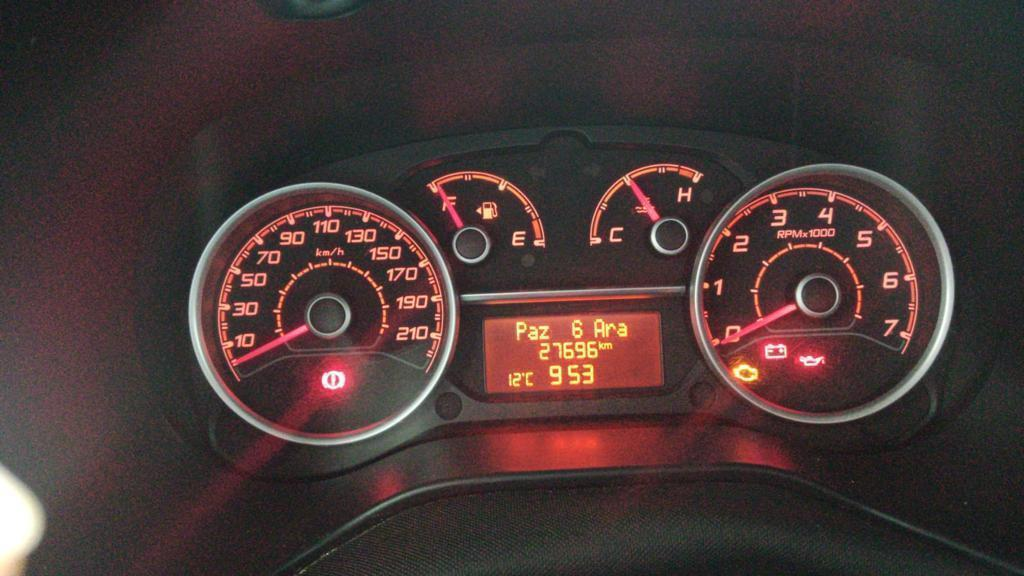1: (505, 371, 511, 387)
2: (538, 341, 550, 360), (512, 371, 521, 387)
3: (581, 362, 594, 385)
5: (566, 363, 579, 385)
6: (571, 318, 583, 339), (586, 340, 598, 358), (563, 341, 573, 359)
7: (550, 341, 562, 359)
9: (547, 364, 562, 386), (574, 340, 586, 359)
X: (592, 317, 605, 338), (514, 320, 527, 341), (615, 321, 628, 337), (527, 324, 538, 341), (538, 324, 549, 340), (605, 322, 616, 337), (525, 370, 534, 386), (603, 341, 612, 350), (598, 339, 603, 350)
odometer: (480, 307, 665, 399)
